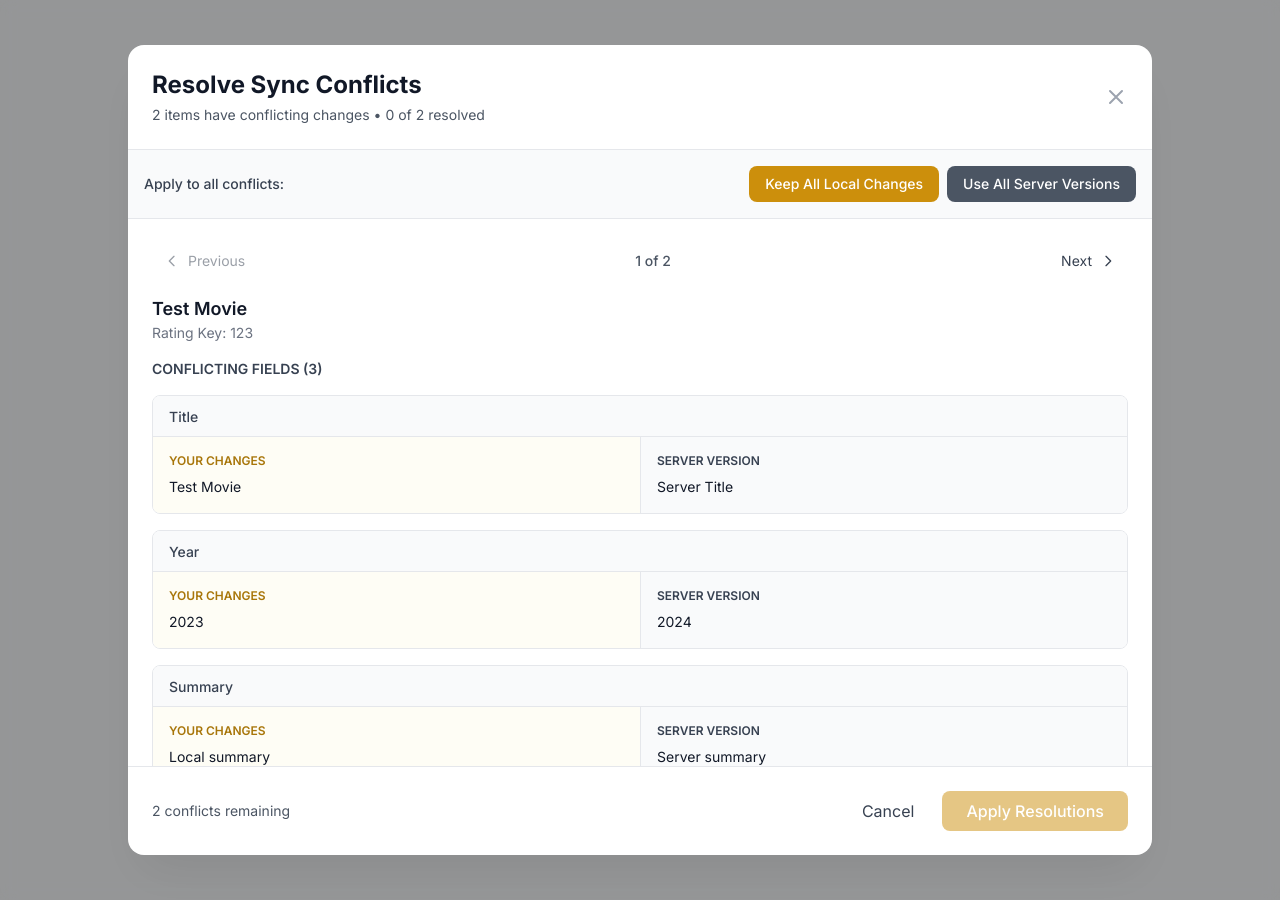
Scenario: ConflictResolutionModal › Bulk Resolution › should resolve all conflicts to server
Click the button "Use All Server Versions".
click(1042, 184)  # box [947,166,1136,202]
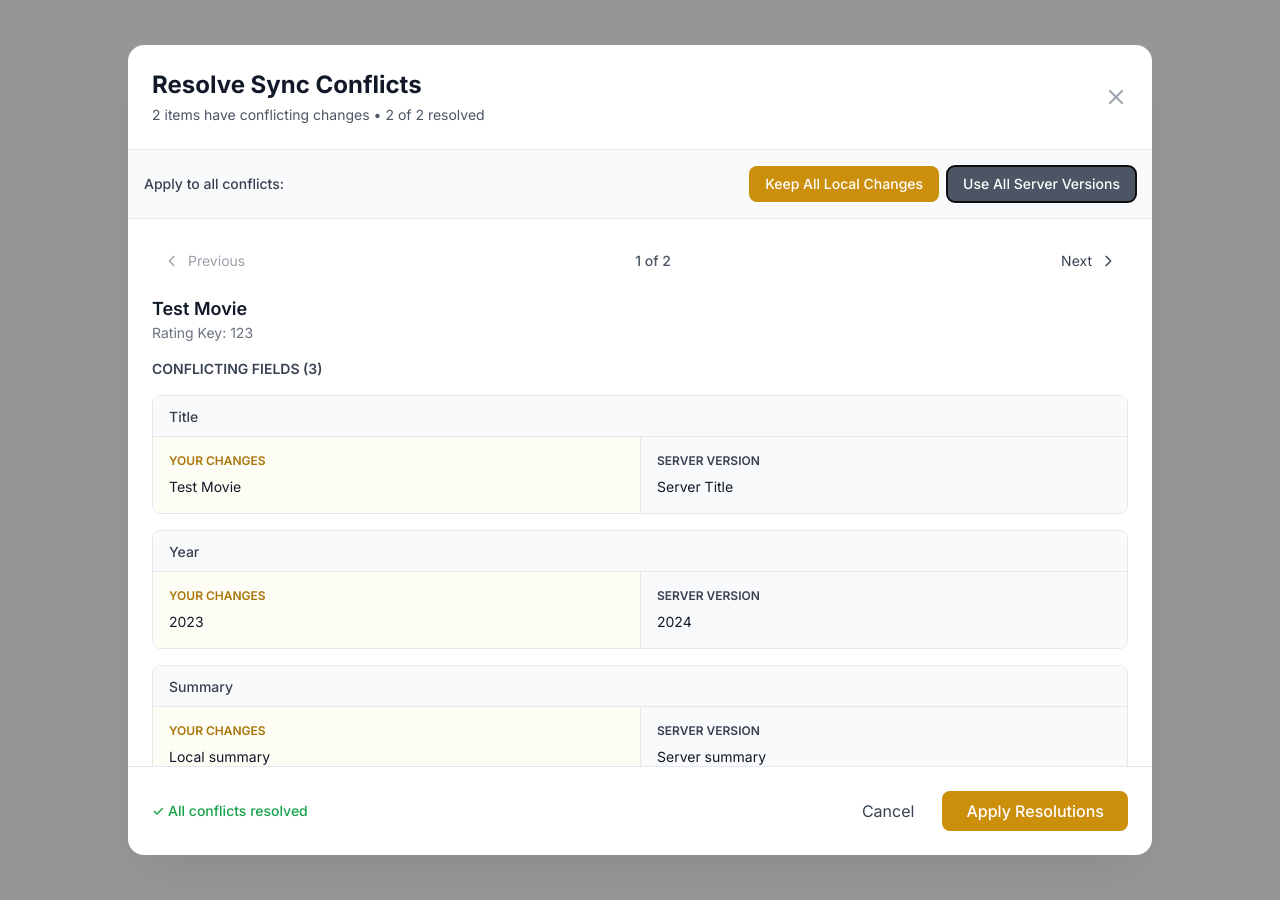
Expected: the text "2 items have conflicting changes • 2 of 2 resolved" is shown, [152,105,485,125]
